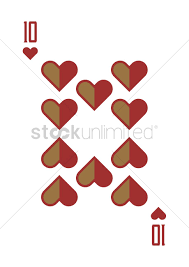ten of hearts: (5, 9, 183, 254)
